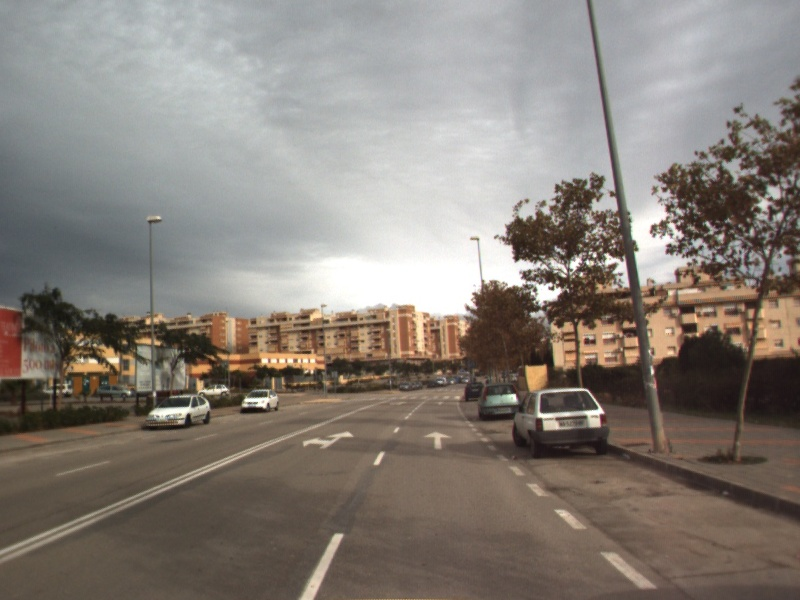STRAIGHT: (421, 429, 455, 452)
STRAIGHT_LEFT: (301, 428, 356, 451)
